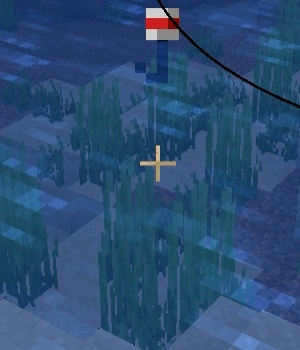up: (132, 3, 185, 84)
